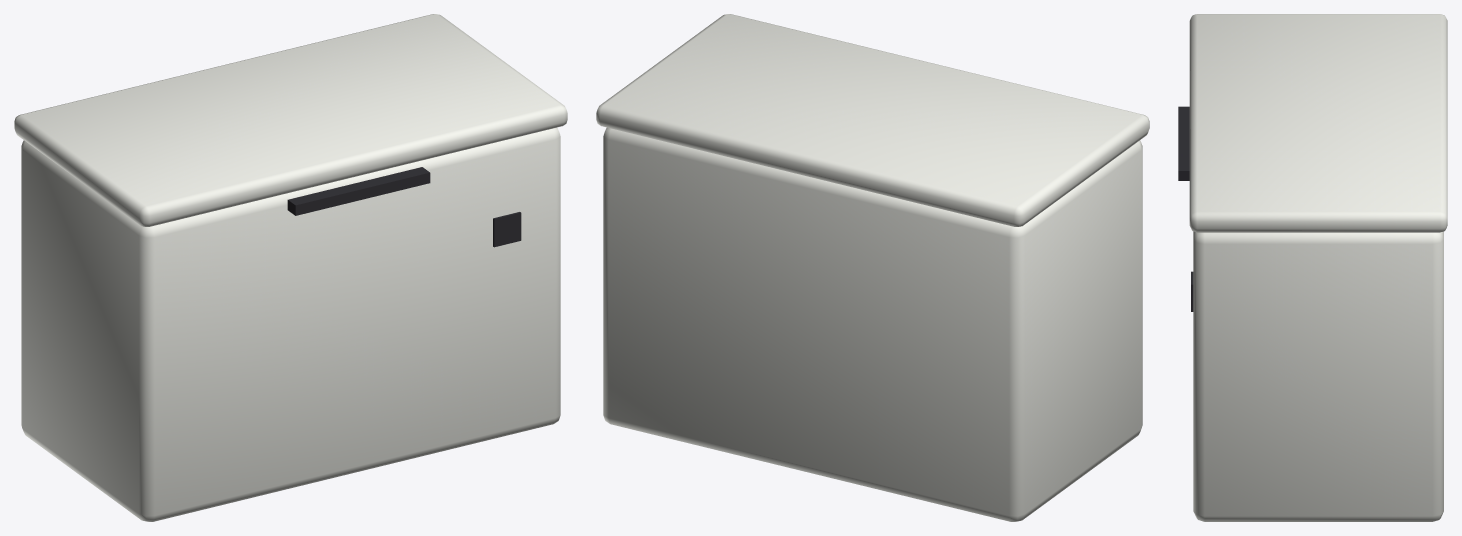
File: fur_freezer.glb
3 renders of one model, left to right at view 1: azimuth 30°, elevation 25°; view 2: azimuth 150°, elevation 25°; view 3: azimuth 270°, elevation 25°, orthographic. The views are drawn at different scales.
Parts seen in each view (by area): view 1: FUR_freezer; view 2: FUR_freezer; view 3: FUR_freezer.
Boxes of the visible parts, bbox=[...] form: FUR_freezer: bbox=[14, 14, 567, 521]; FUR_freezer: bbox=[596, 14, 1149, 521]; FUR_freezer: bbox=[1178, 14, 1447, 521].
Size of the model in its own units: 1.27 by 0.91 by 0.71.
1 material, 1 textured.
